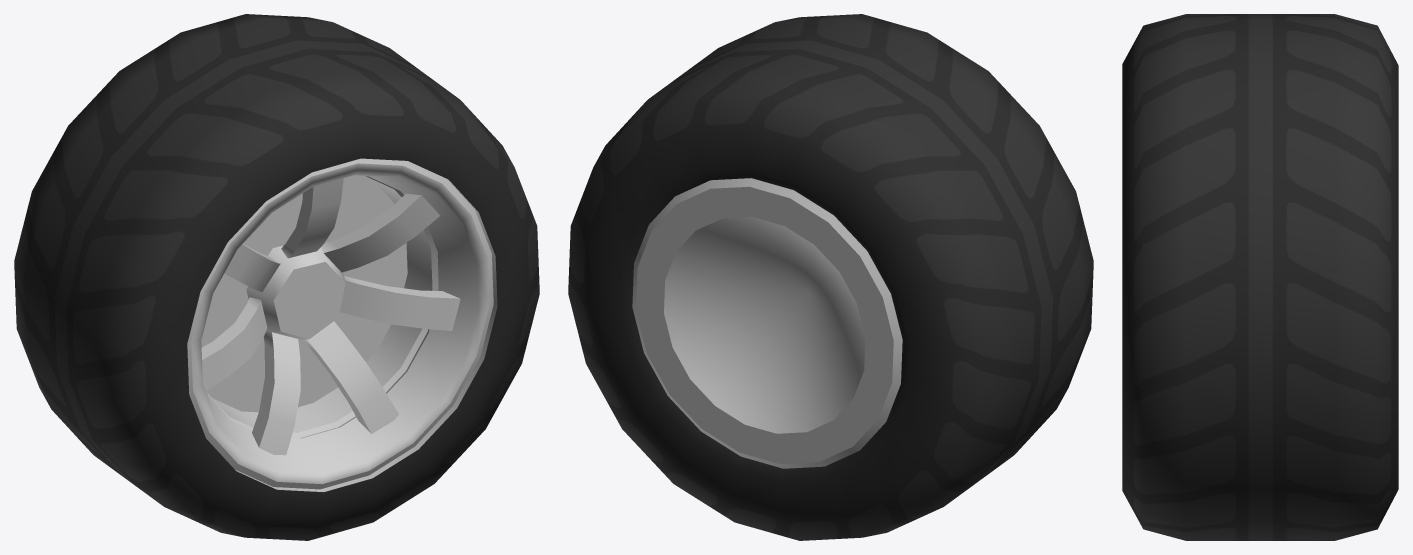
File: Wheel_13.fbx
3 views of the same model, side by side, from view 1: azimuth 30°, elevation 25°; view 2: azimuth 150°, elevation 25°; view 3: azimuth 270°, elevation 25° (orthographic). The views are drawn at different scales.
Parts seen in each view (by area): view 1: Wheel_13; view 2: Wheel_13; view 3: Wheel_13.
Boxes of the visible parts, x1,y1,x2,y2 form: Wheel_13: [14, 14, 539, 540]; Wheel_13: [568, 14, 1093, 540]; Wheel_13: [1122, 14, 1398, 540].
Bounding box in the file's own units: 94.85 × 49.92 × 94.85.
